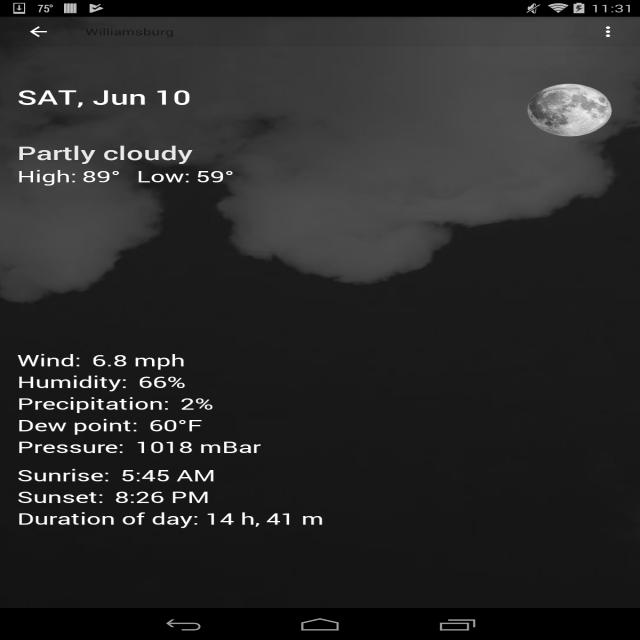ImageButton: (9, 16, 68, 46)
ImageView: (0, 17, 640, 608), (527, 83, 612, 137), (589, 16, 631, 46)
TextView: (17, 84, 575, 110), (17, 508, 324, 529), (17, 140, 193, 165), (17, 393, 170, 414), (135, 436, 261, 458), (17, 414, 138, 436), (17, 371, 128, 393), (17, 436, 125, 458), (120, 464, 216, 486), (114, 486, 210, 508), (92, 349, 185, 371), (17, 464, 110, 486), (17, 486, 104, 508), (17, 349, 81, 371), (17, 165, 77, 187), (137, 165, 190, 187), (149, 414, 202, 436), (85, 25, 174, 38), (138, 371, 186, 393), (82, 165, 121, 187), (196, 165, 234, 187), (180, 393, 213, 414)
